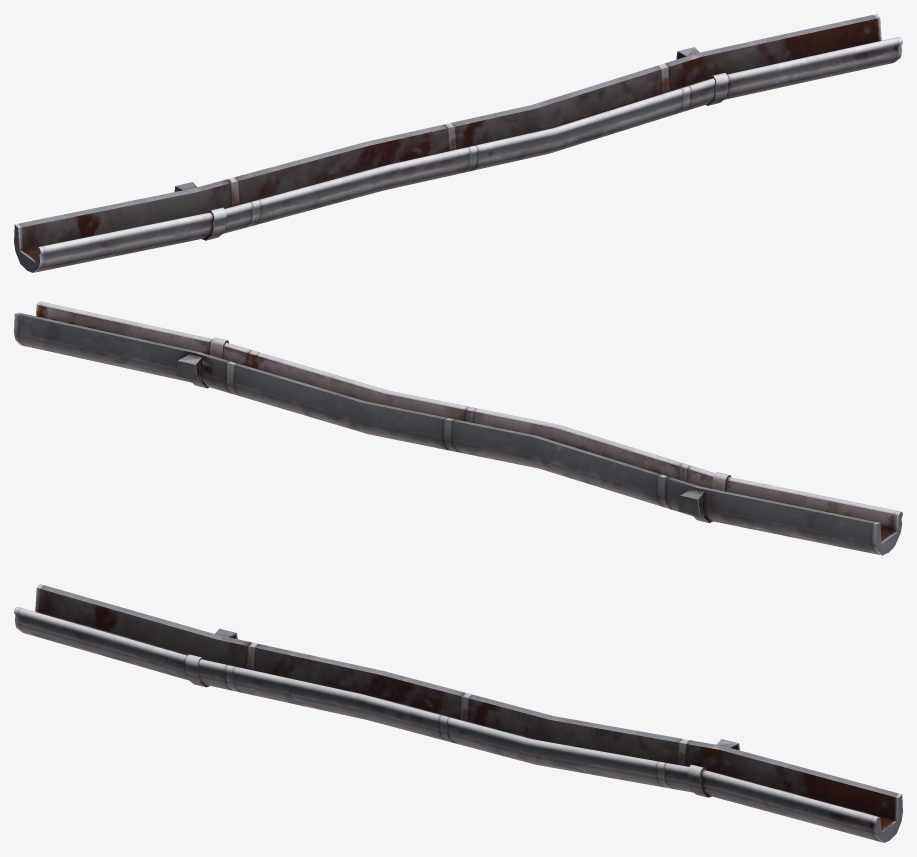
File: PropRoofDrainage01_1.FBX
3 renders of one model, top to bottom at view 1: azimuth 30°, elevation 25°; view 2: azimuth 150°, elevation 25°; view 3: azimuth 330°, elevation 25°, orthographic.
Parts seen in each view (by area): view 1: PropRoofDrainage01_1; view 2: PropRoofDrainage01_1; view 3: PropRoofDrainage01_1.
Boxes of the visible parts, <box> form: PropRoofDrainage01_1: <box>14,14,902,272</box>; PropRoofDrainage01_1: <box>14,301,902,555</box>; PropRoofDrainage01_1: <box>14,584,902,842</box>.
Size of what is drawn, in the model's own units: 4.5 by 0.2572 by 0.3515.
